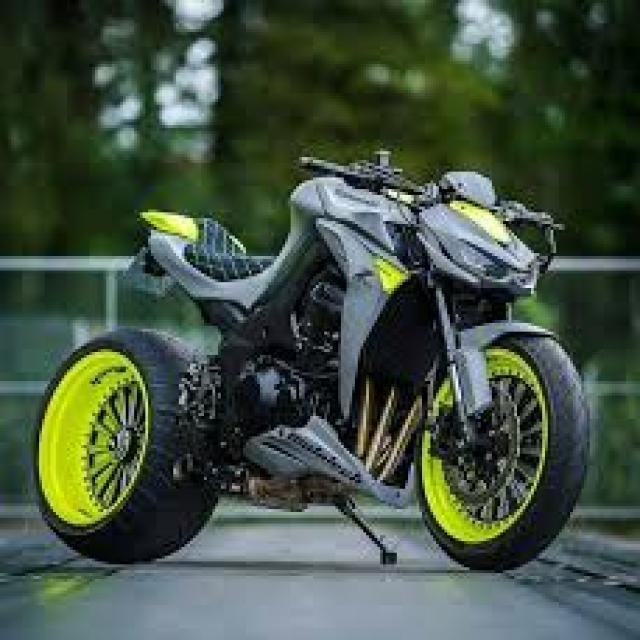Bike: (34, 147, 596, 572)
